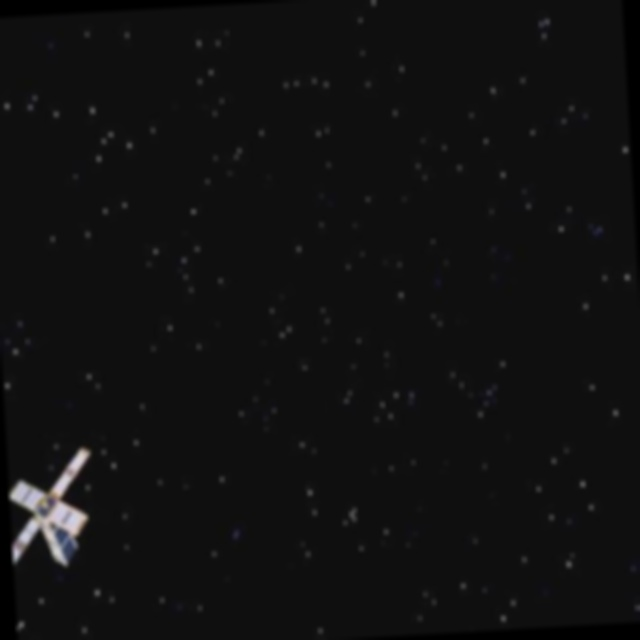satellite: (7, 439, 107, 579)
